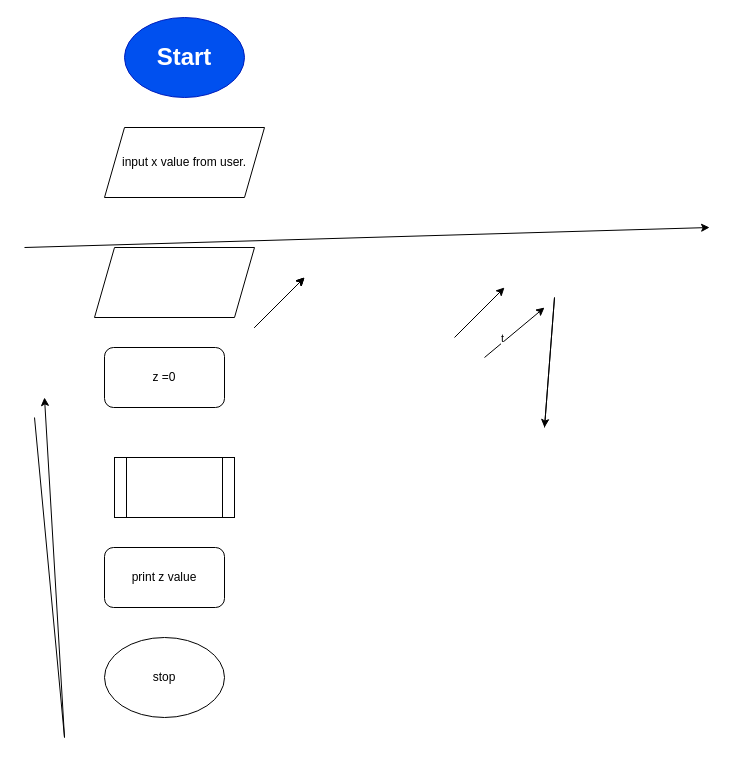
The diagram is 736 pixels wide and 763 high, and some of its shapes have lost their labels. Each missing label, with the box of its shape:
input y value from user.: (94, 246, 254, 318)
x+y=z: (114, 456, 234, 518)
